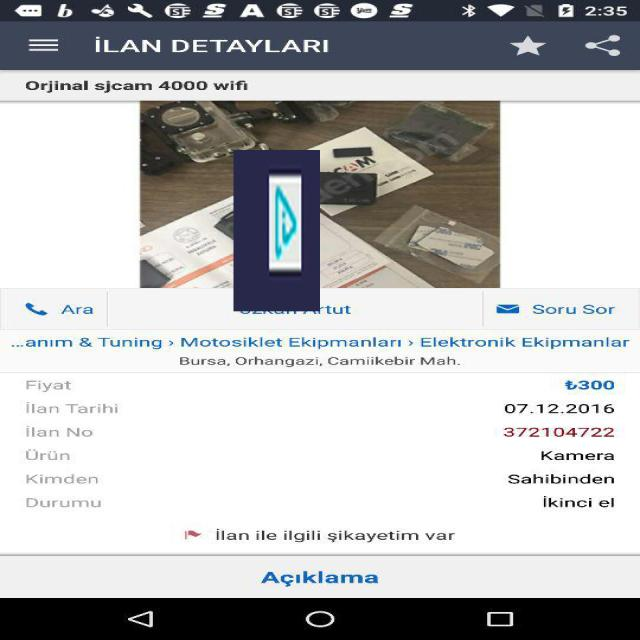sneaking: (233, 150, 320, 311)
